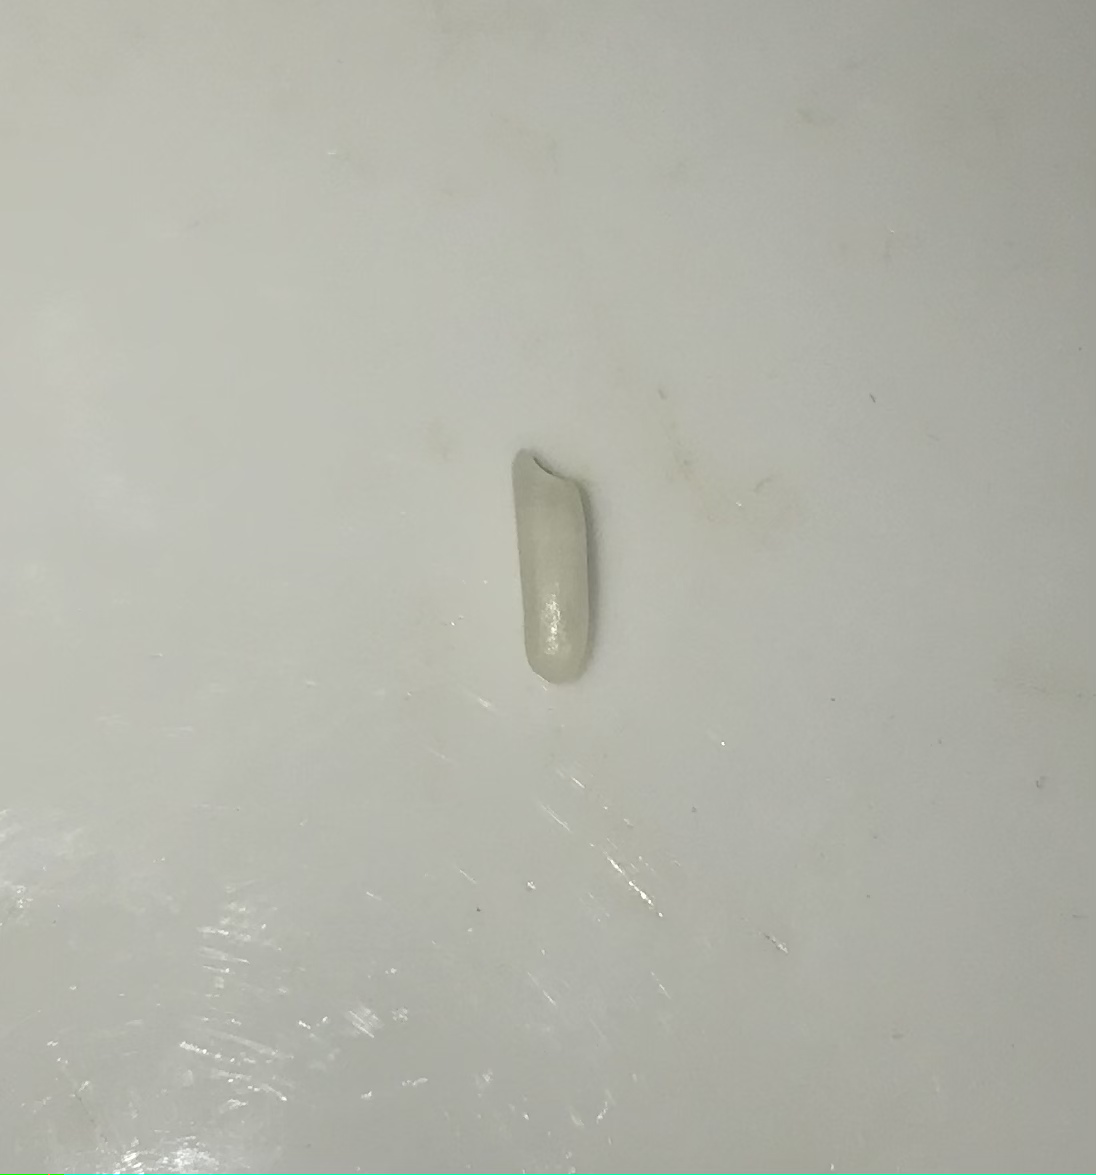Gao Lut Trang: (496, 428, 606, 694)
